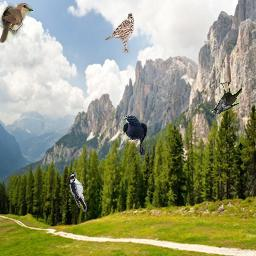Crow: (210, 82, 242, 114), (123, 115, 147, 155)
Cuckoo: (0, 3, 33, 43)
Sparrow: (105, 13, 134, 53)
Woodpecker: (69, 172, 87, 212)
